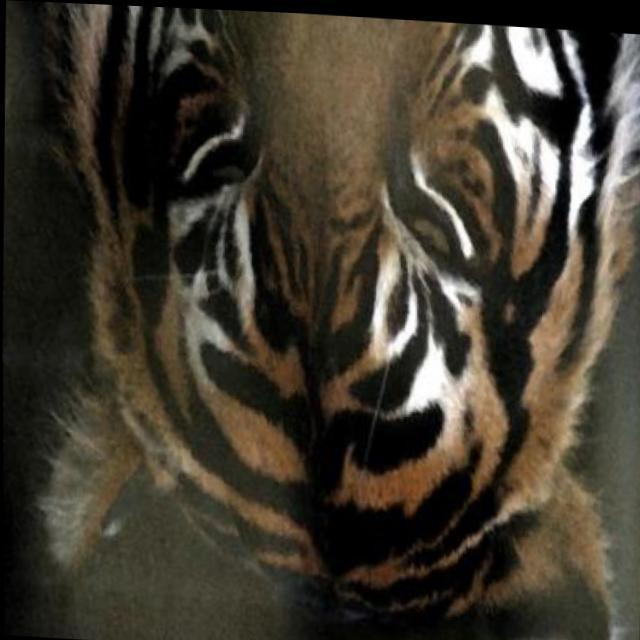tiger: (25, 5, 639, 639)
